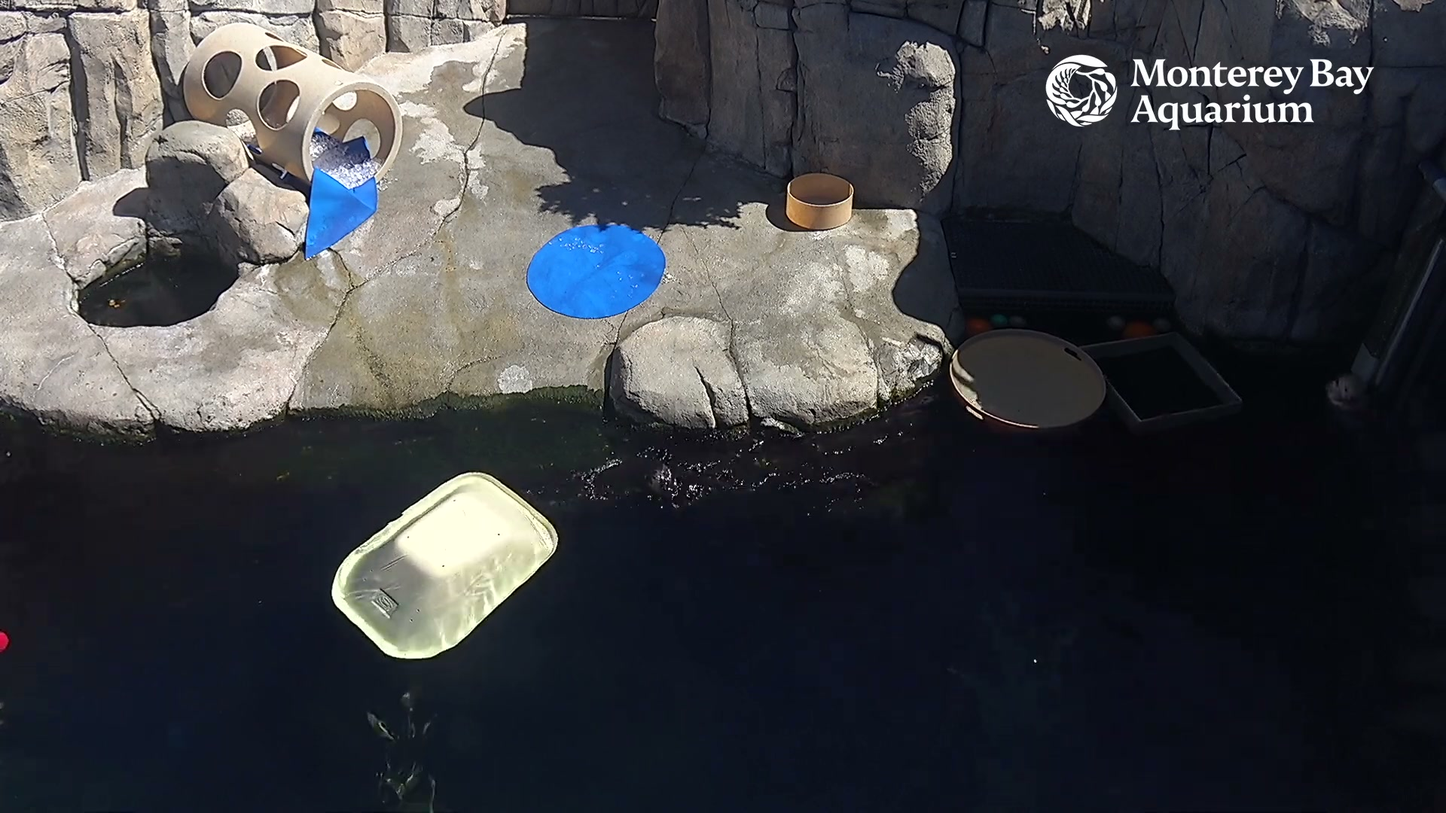Southern Sea Otter: (592, 417, 971, 565), (1293, 329, 1417, 491)
